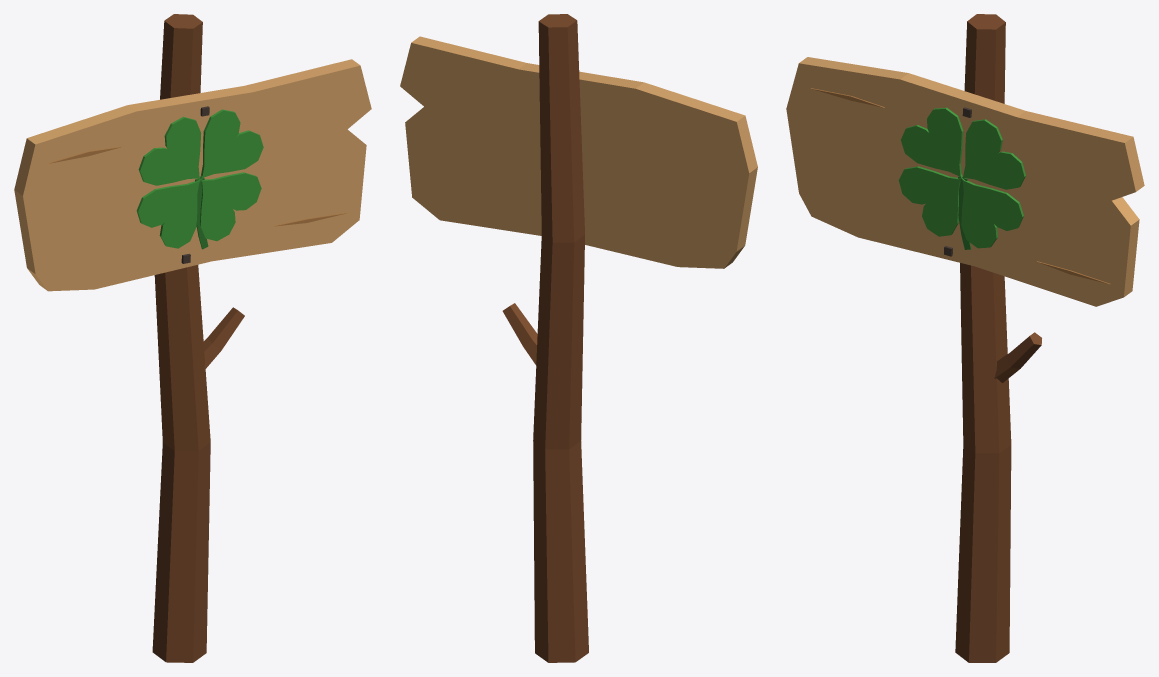
The model's file is prop-village-sign.glb.
3 views of the same model, side by side, from view 1: azimuth 30°, elevation 25°; view 2: azimuth 150°, elevation 25°; view 3: azimuth 330°, elevation 25° (orthographic).
Parts seen in each view (by area): view 1: VillageSign; view 2: VillageSign; view 3: VillageSign.
Boxes of the visible parts, x1,y1,x2,y2 form: VillageSign: (14,14,371,662); VillageSign: (400,14,757,662); VillageSign: (786,14,1144,662).
Bounding box in the file's own units: 1.04 × 1.8 × 0.179.
